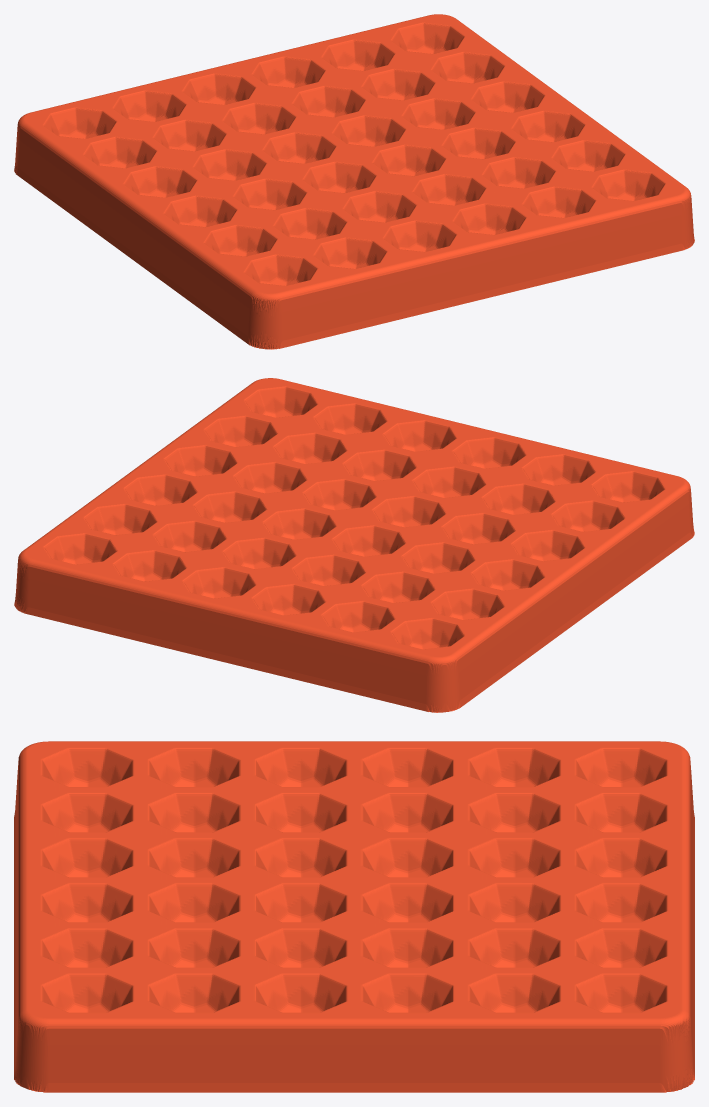
Rendered from mold.glb.
3 renders of one model, top to bottom at view 1: azimuth 30°, elevation 25°; view 2: azimuth 150°, elevation 25°; view 3: azimuth 270°, elevation 25°, orthographic. The views are drawn at different scales.
Visible parts, largest first — view 1: geometry_0; view 2: geometry_0; view 3: geometry_0.
Part boxes in pixels (x1,y1,x2,y2): geometry_0: (14,14,694,349); geometry_0: (14,378,694,712); geometry_0: (14,741,694,1092).
Size of the model in its own units: 0.1766 by 0.0195 by 0.1766.
